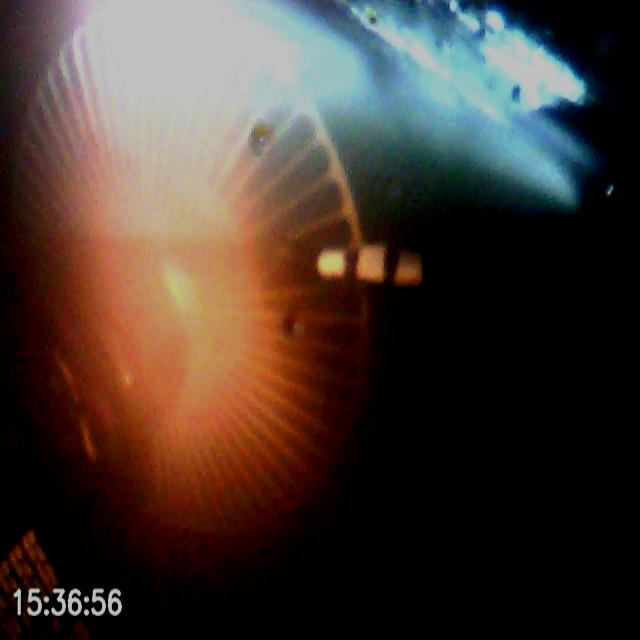white-dots: (315, 242, 425, 289)
